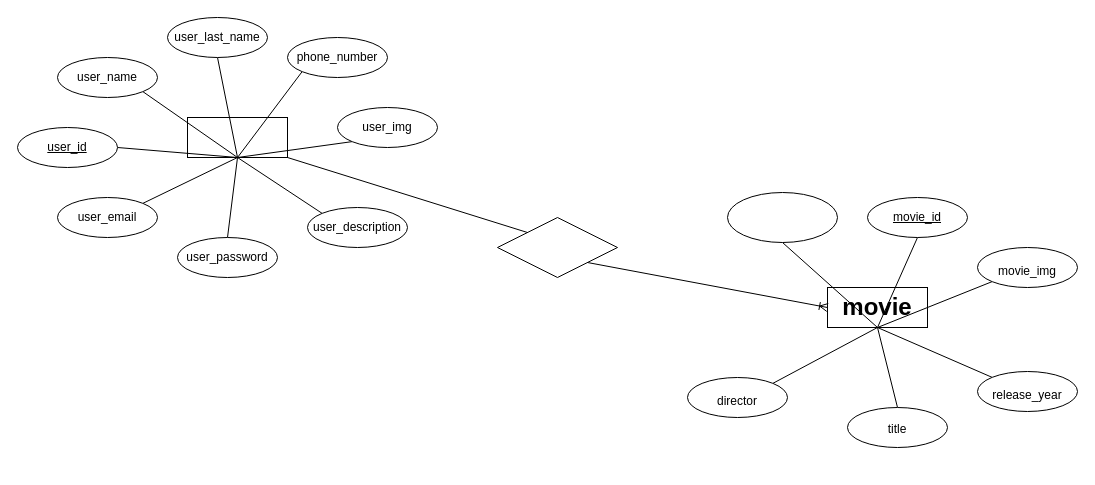
Image size: 1095x485. Some labels were removed from this diagram. The box of each missing label's shape, as (x1, y1, x2, y2) in pixels:
has: (496, 216, 618, 278)
movie_description: (726, 192, 838, 242)
user: (186, 116, 288, 158)
